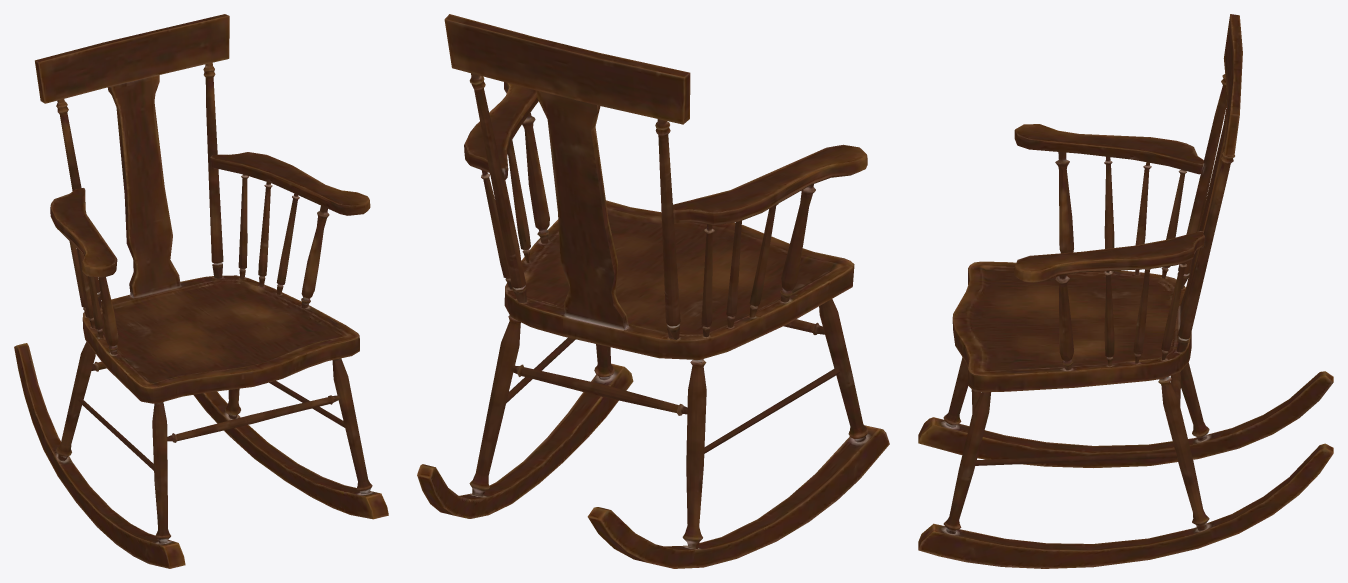
3 views of the same model, side by side, from view 1: azimuth 30°, elevation 25°; view 2: azimuth 150°, elevation 25°; view 3: azimuth 270°, elevation 25° (orthographic). The views are drawn at different scales.
Parts seen in each view (by area): view 1: Rockingchair_01; view 2: Rockingchair_01; view 3: Rockingchair_01.
Boxes of the visible parts, x1,y1,x2,y2 form: Rockingchair_01: (14,14,388,568); Rockingchair_01: (417,14,889,568); Rockingchair_01: (918,14,1333,568).
Size of the model in its own units: 0.7081 by 0.9949 by 0.8335.
1 material, 1 textured.
